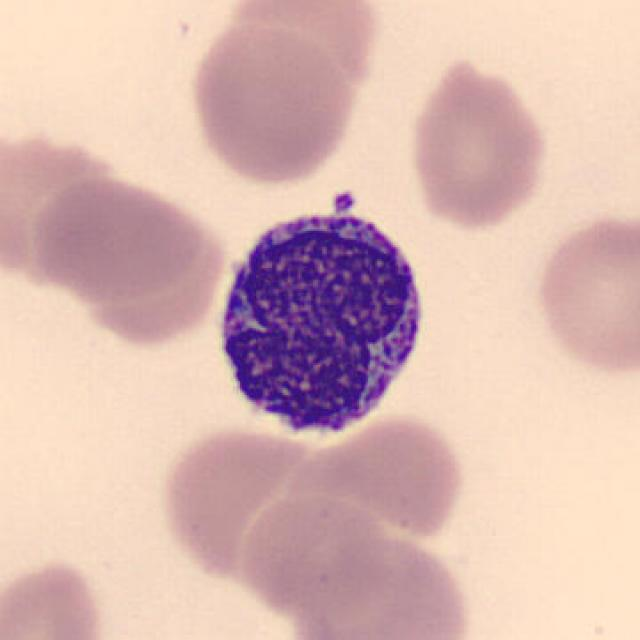Basophil: (205, 194, 438, 455)
RBC: (183, 14, 363, 191), (404, 53, 551, 233), (22, 171, 214, 305), (71, 196, 235, 351), (155, 421, 313, 580), (286, 409, 471, 543), (286, 530, 476, 640), (235, 492, 396, 617), (0, 125, 131, 278), (217, 2, 384, 116), (530, 208, 638, 379), (0, 553, 112, 640)
